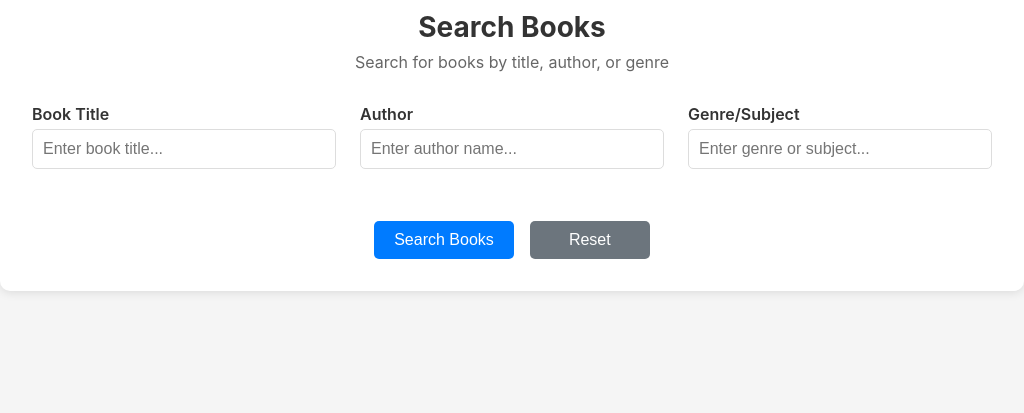
SearchForm › shows error when form is submitted with empty fields
The width and height of the screenshot is (1024, 413).
Click the button "Search Books" at {"x": 444, "y": 240}, box [374,221,514,259]
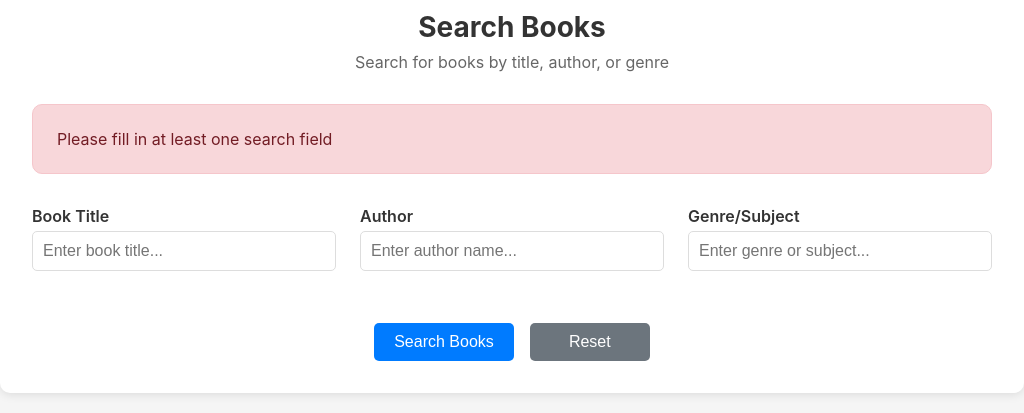
Expected: the text "Please fill in at least one search field" is shown, [32,104,992,174]
